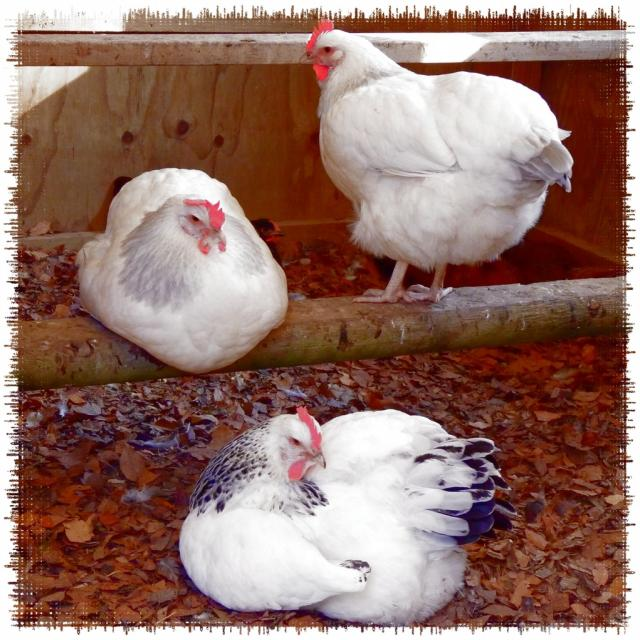Chicken: (165, 406, 514, 630), (303, 23, 573, 307), (68, 160, 295, 376)
